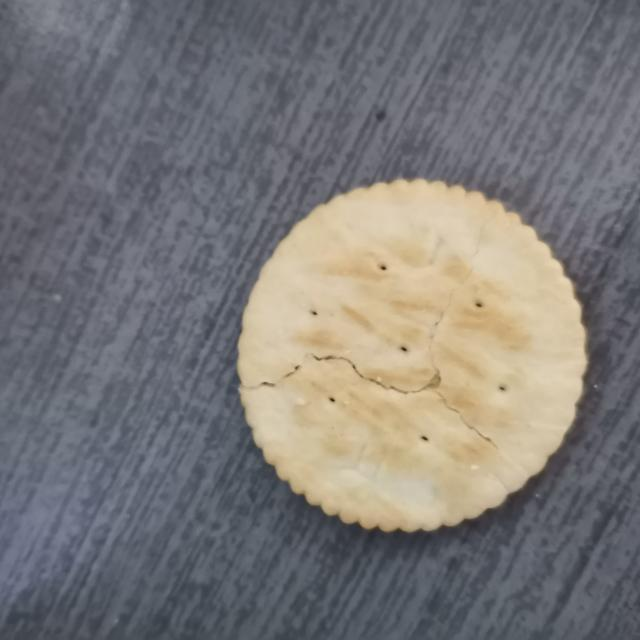Fracture: (241, 200, 546, 484)
